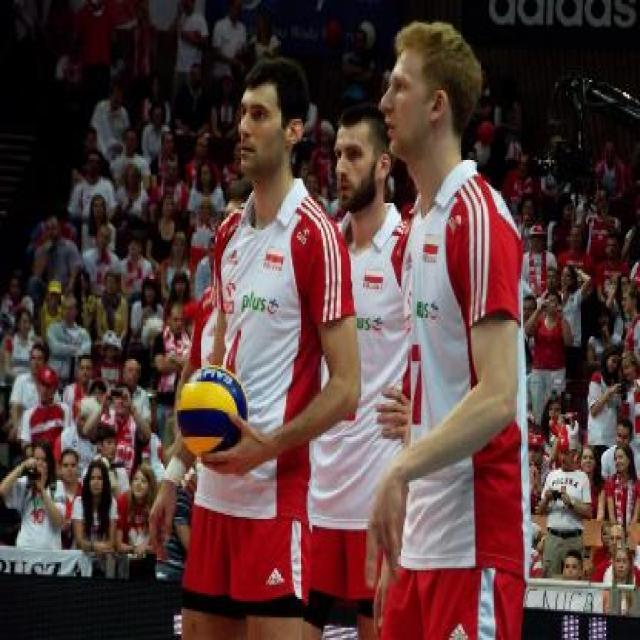volleyball: (177, 366, 248, 460)
